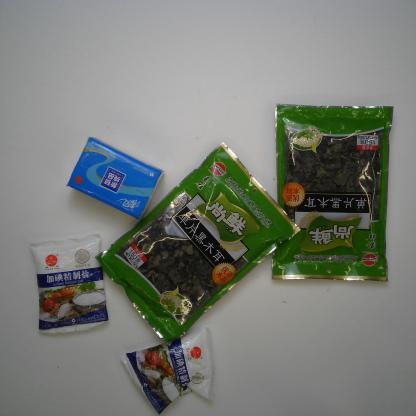Dried Food: (93, 139, 301, 344), (271, 100, 395, 283)
Seasoner: (121, 323, 217, 416), (28, 231, 108, 336)
Tissue: (65, 135, 166, 222)
